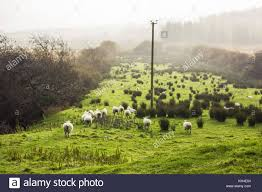sheep: (62, 120, 73, 137), (182, 119, 192, 135), (82, 113, 93, 125), (142, 115, 151, 128), (111, 105, 119, 118), (101, 107, 109, 118), (93, 108, 101, 118), (117, 103, 125, 113), (122, 109, 130, 118)
